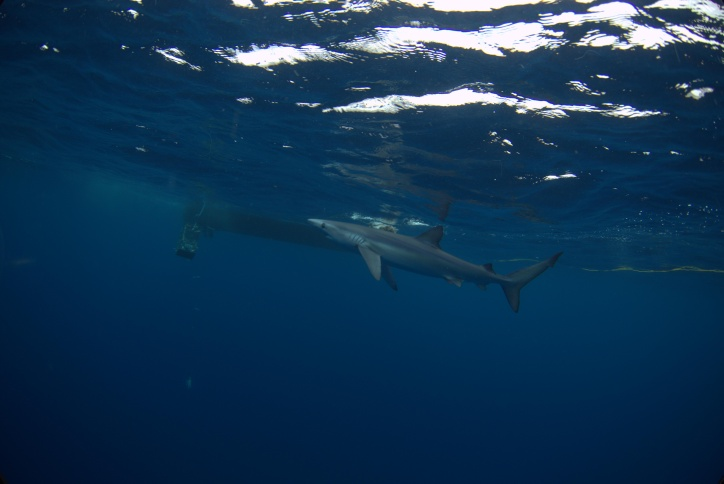Azul: (300, 196, 567, 329)
